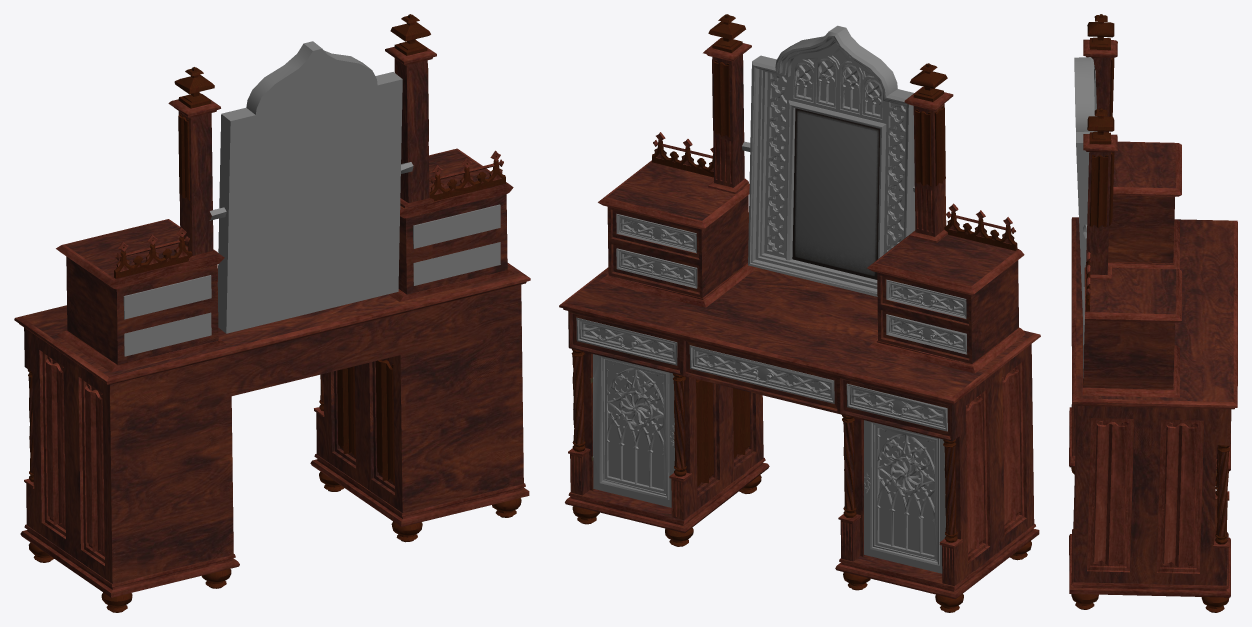
Rendered from dressing-table-mirror.glb.
3 views of the same model, side by side, from view 1: azimuth 30°, elevation 25°; view 2: azimuth 150°, elevation 25°; view 3: azimuth 270°, elevation 25° (orthographic). The views are drawn at different scales.
Parts seen in each view (by area): view 1: dressing-table-mirror; view 2: dressing-table-mirror; view 3: dressing-table-mirror.
Part boxes in pixels (x1=…): dressing-table-mirror: x1=14, y1=14, x2=530, y2=612; dressing-table-mirror: x1=559, y1=14, x2=1040, y2=612; dressing-table-mirror: x1=1069, y1=14, x2=1237, y2=612.
Size of the model in its own units: 1.75 by 2.05 by 0.6748.
Materials: 3 (2 with a texture image).
